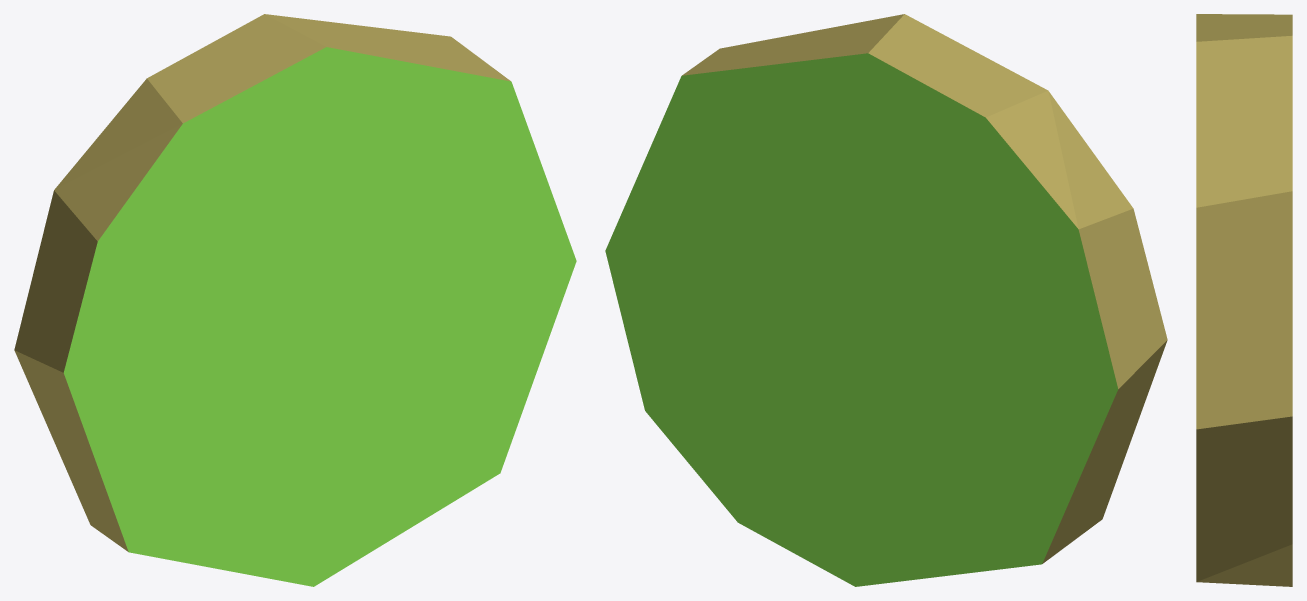
File: PlatformEmpty.fbx
3 views of the same model, side by side, from view 1: azimuth 30°, elevation 25°; view 2: azimuth 150°, elevation 25°; view 3: azimuth 270°, elevation 25° (orthographic). The views are drawn at different scales.
Parts seen in each view (by area): view 1: PlatformEmpty; view 2: PlatformEmpty; view 3: PlatformEmpty.
Boxes of the visible parts, box(x1,y1,x2,y2) form: PlatformEmpty: box(14, 14, 576, 586); PlatformEmpty: box(605, 14, 1167, 586); PlatformEmpty: box(1196, 14, 1292, 586).
Bounding box in the file's own units: 3 × 3 × 0.5.
